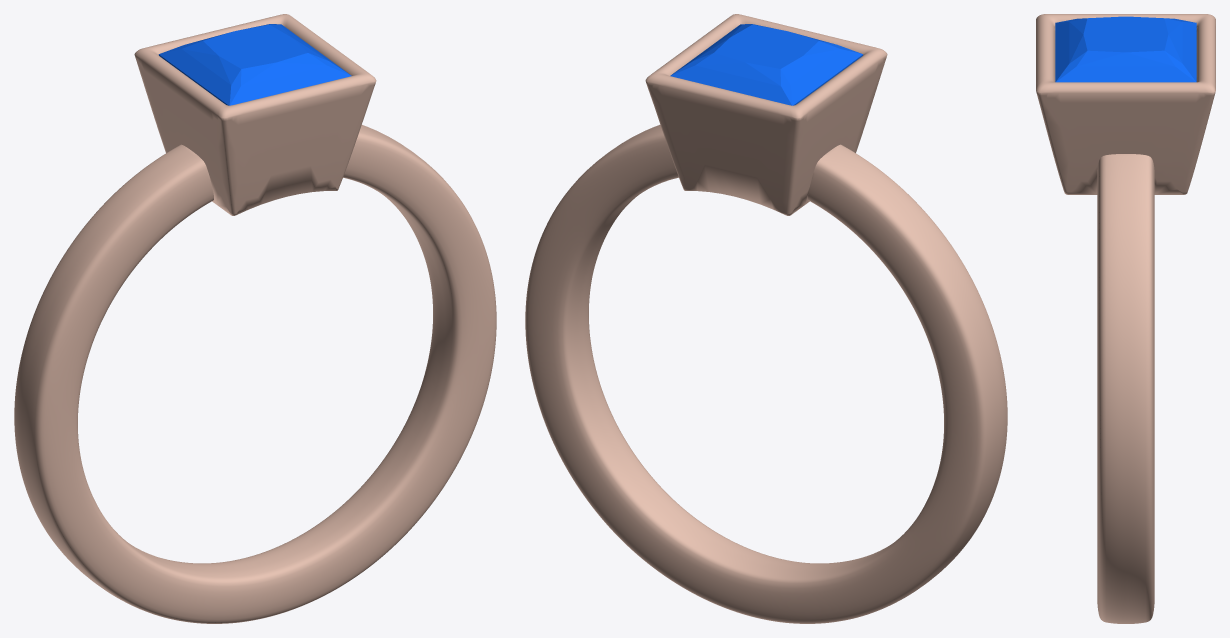
File: bluesapphire-princess-rosegold-bezelset-straightband-solitaire.glb
3 renders of one model, left to right at view 1: azimuth 30°, elevation 25°; view 2: azimuth 150°, elevation 25°; view 3: azimuth 270°, elevation 25°, orthographic.
Visible parts, largest first — view 1: metal, stone; view 2: metal, stone; view 3: metal, stone.
Boxes of the visible parts, bbox=[...] form: metal: bbox=[14, 14, 496, 623]; stone: bbox=[158, 24, 351, 105]; metal: bbox=[525, 14, 1007, 623]; stone: bbox=[670, 24, 863, 105]; metal: bbox=[1036, 14, 1215, 623]; stone: bbox=[1055, 16, 1196, 82].
Size of the model in its own units: 20.51 by 23.86 by 6.89.
